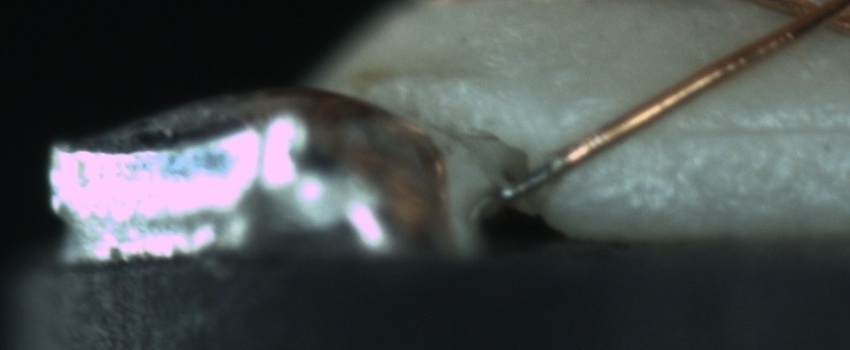DL: (635, 97, 850, 159)
TS: (498, 154, 564, 201)
TTCW: (495, 138, 584, 206)
